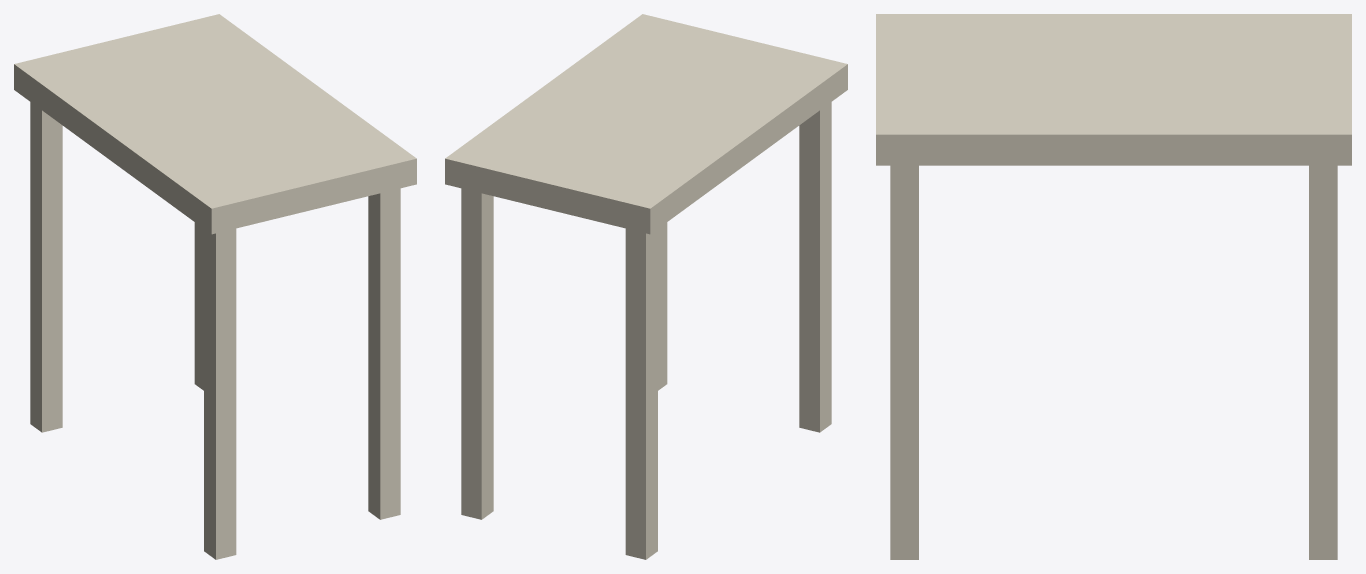
The model's file is desk.glb.
3 views of the same model, side by side, from view 1: azimuth 30°, elevation 25°; view 2: azimuth 150°, elevation 25°; view 3: azimuth 270°, elevation 25° (orthographic). The views are drawn at different scales.
Visible parts, largest first — view 1: REF-L03-R01-desk-part-1, REF-L03-R01-desk-part-3, REF-L03-R01-desk-part-5, REF-L03-R01-desk-part-2, REF-L03-R01-desk-part-4; view 2: REF-L03-R01-desk-part-1, REF-L03-R01-desk-part-2, REF-L03-R01-desk-part-4, REF-L03-R01-desk-part-3, REF-L03-R01-desk-part-5; view 3: REF-L03-R01-desk-part-1, REF-L03-R01-desk-part-4, REF-L03-R01-desk-part-5.
Part boxes in pixels (x1,y1,x2,y2): REF-L03-R01-desk-part-1: (14,14,416,234); REF-L03-R01-desk-part-3: (204,228,236,559); REF-L03-R01-desk-part-5: (368,188,400,519); REF-L03-R01-desk-part-2: (30,102,62,432); REF-L03-R01-desk-part-4: (194,222,203,390); REF-L03-R01-desk-part-1: (445,14,847,234); REF-L03-R01-desk-part-2: (625,228,657,559); REF-L03-R01-desk-part-4: (461,188,493,519); REF-L03-R01-desk-part-3: (799,102,831,432); REF-L03-R01-desk-part-5: (658,222,667,390); REF-L03-R01-desk-part-1: (876,14,1351,165); REF-L03-R01-desk-part-4: (1309,165,1337,559); REF-L03-R01-desk-part-5: (890,165,918,559).
Size of the model in its own units: 0.15 by 0.25 by 0.25.
